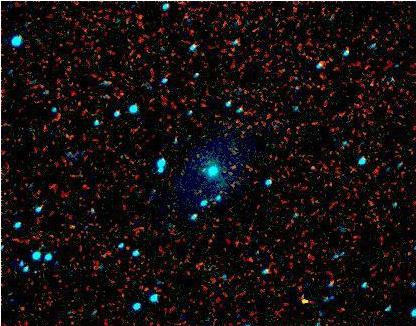star: (290, 283, 320, 313)
